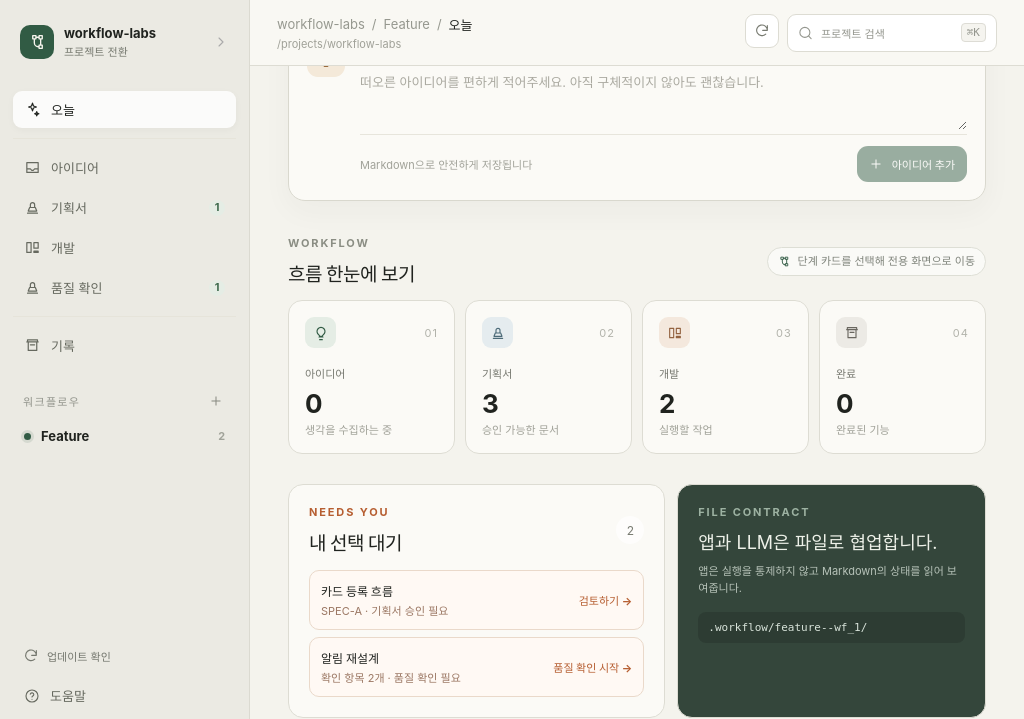
WorkspaceShell › opens the workbench at the chosen feature without passing through the development screen
This screenshot has width=1024, height=719.
(page scrolled)
Click the button "알림 재설계 확인 항목 2개 · 품질 확인 필요 품질 확인 시작 →": (350, 658) [309,637,644,697]
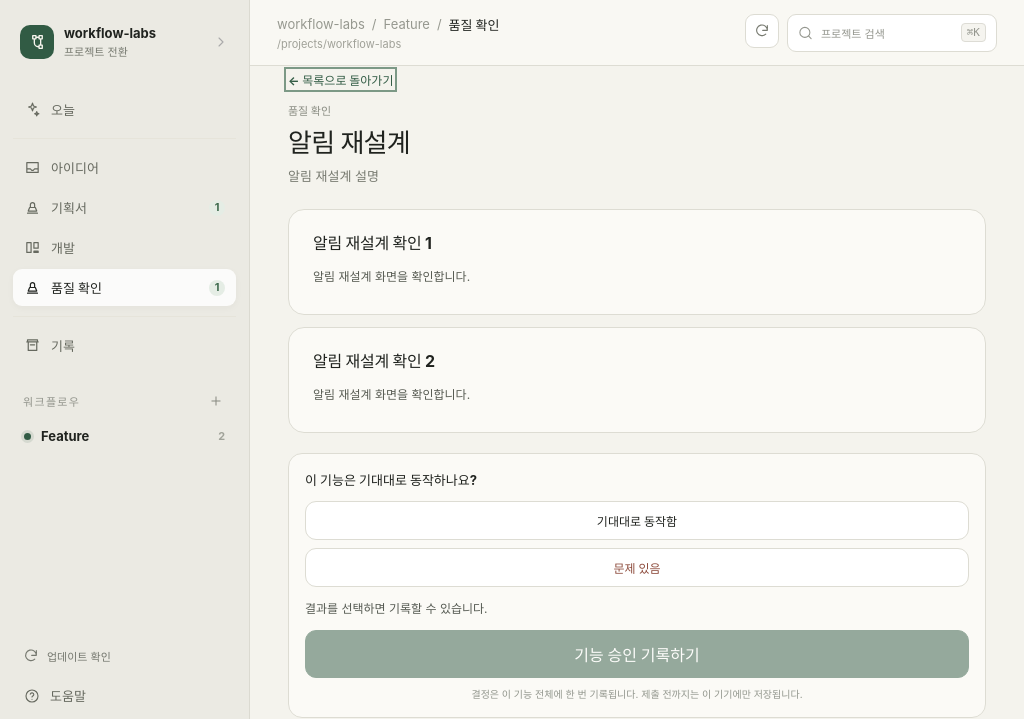
Expected: the element "지금 확인할 기능" is not shown
Expected: the 1st text "품질 확인" is shown, [449,14,500,34]
Expected: the heading "알림 재설계" is shown, [288,127,410,158]
주요 메뉴로 다시 들어가면 대기열에서 시작한다.
Click the button "오늘": (124, 110) [13,91,236,128]
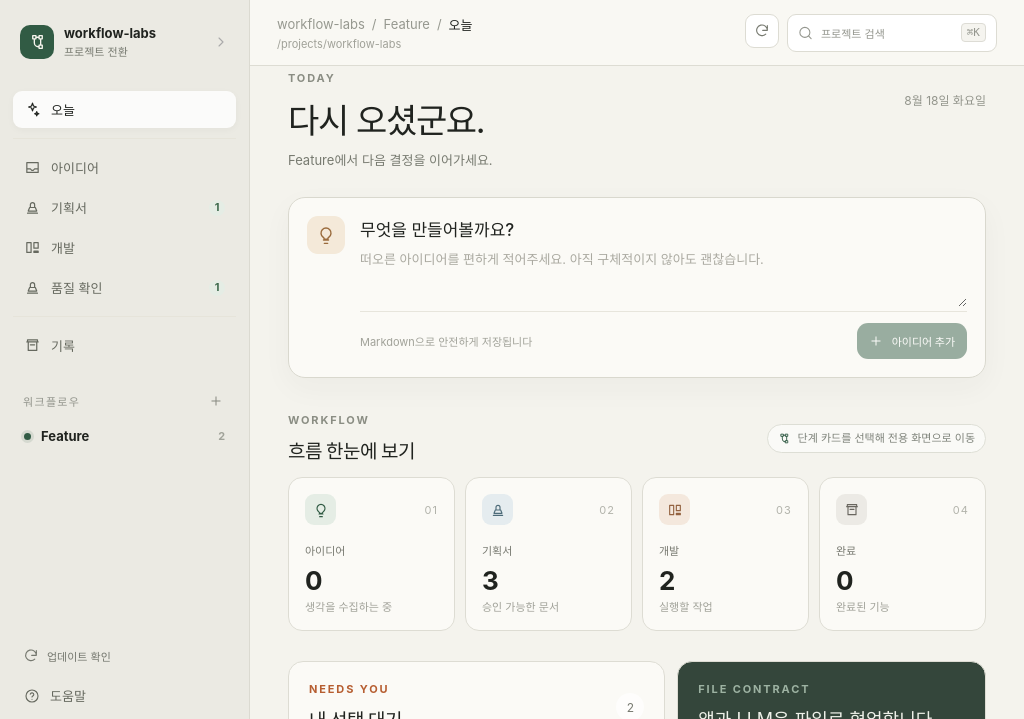
Click the button "품질 확인 1": (124, 288) [13,269,236,306]
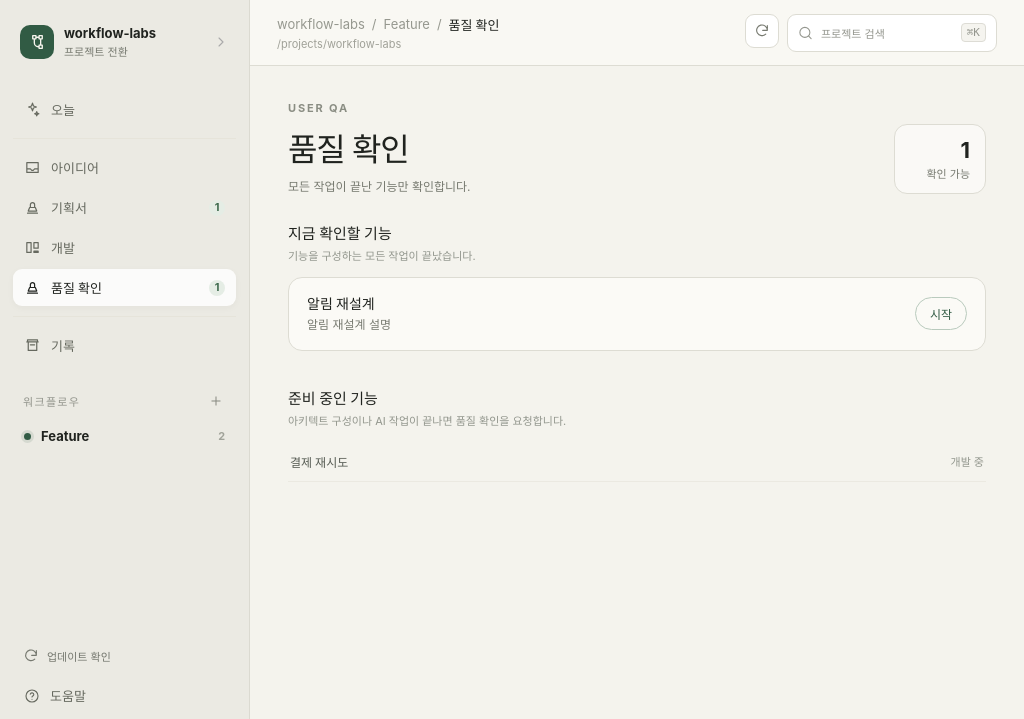
Expected: the element "지금 확인할 기능" is shown, [288,222,986,351]
